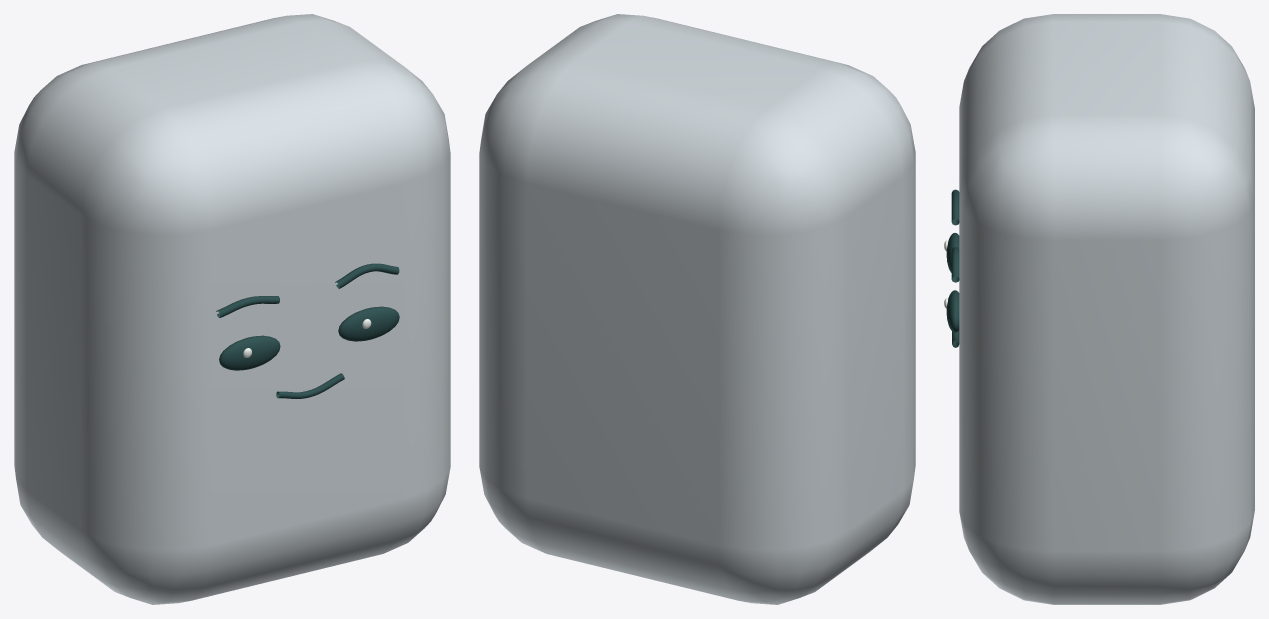
Rendered from metal-v1.glb.
3 renders of one model, left to right at view 1: azimuth 30°, elevation 25°; view 2: azimuth 150°, elevation 25°; view 3: azimuth 270°, elevation 25°, orthographic.
Visible parts, largest first — view 1: Metal | compact beveled ingot, metal | quiet eye, metal | quiet eye.001, metal | gentle brow.001; view 2: Metal | compact beveled ingot; view 3: Metal | compact beveled ingot, metal | quiet eye.001.
Boxes of the visible parts, x1,y1,x2,y2 form: Metal | compact beveled ingot: (14,14,450,604); metal | quiet eye: (219,335,280,370); metal | quiet eye.001: (338,306,399,341); metal | gentle brow.001: (335,263,399,288); Metal | compact beveled ingot: (479,14,915,604); Metal | compact beveled ingot: (959,14,1254,604); metal | quiet eye.001: (946,290,959,332).
Bounding box in the file's own units: 1.38 × 1.8 × 1.05.
